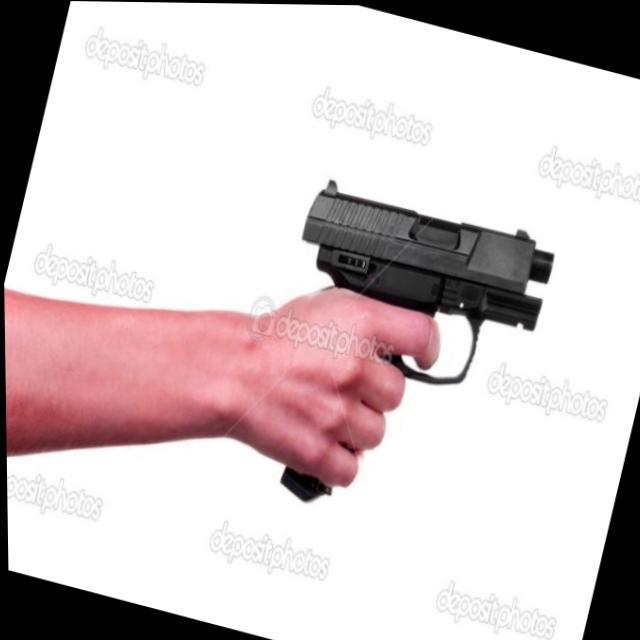weapon: (237, 170, 561, 548)
